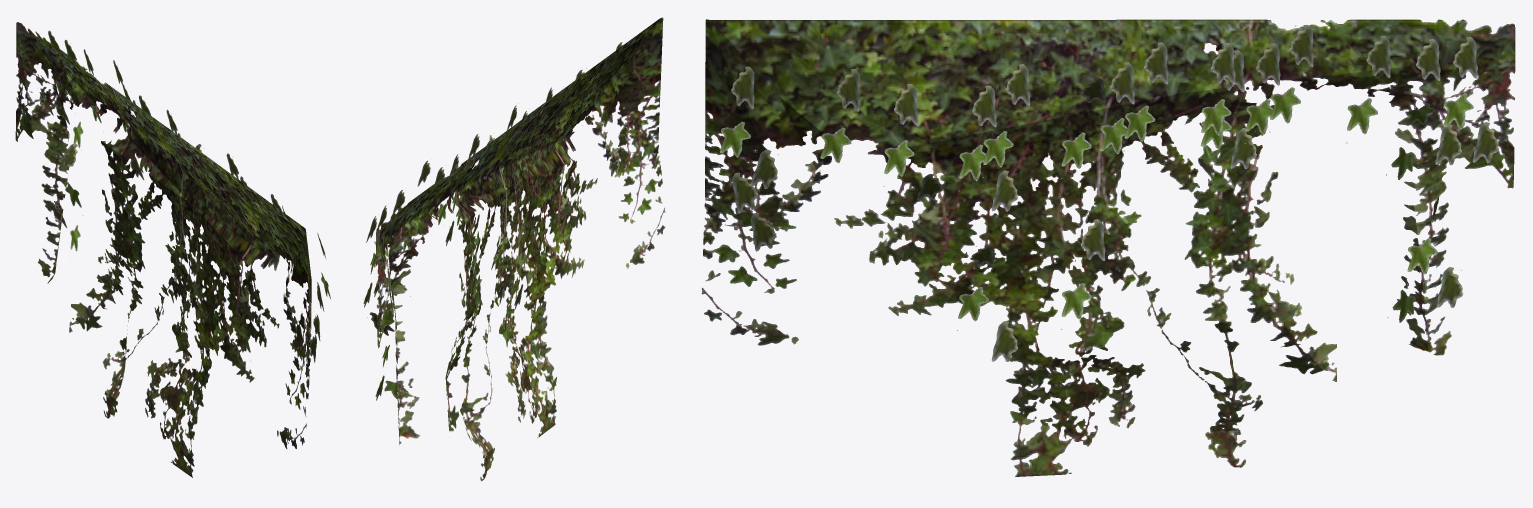
File: popinavka_previs.glb
3 views of the same model, side by side, from view 1: azimuth 30°, elevation 25°; view 2: azimuth 150°, elevation 25°; view 3: azimuth 270°, elevation 25° (orthographic). The views are drawn at different scales.
Visible parts, largest first — view 1: popinavka_previs; view 2: popinavka_previs; view 3: popinavka_previs.
Boxes of the visible parts, box(x1,y1,x2,y2) form: popinavka_previs: box(15, 22, 330, 477); popinavka_previs: box(363, 17, 665, 481); popinavka_previs: box(701, 19, 1515, 476).
Bounding box in the file's own units: 0.3499 × 1.65 × 2.52.
1 material, 1 textured.
